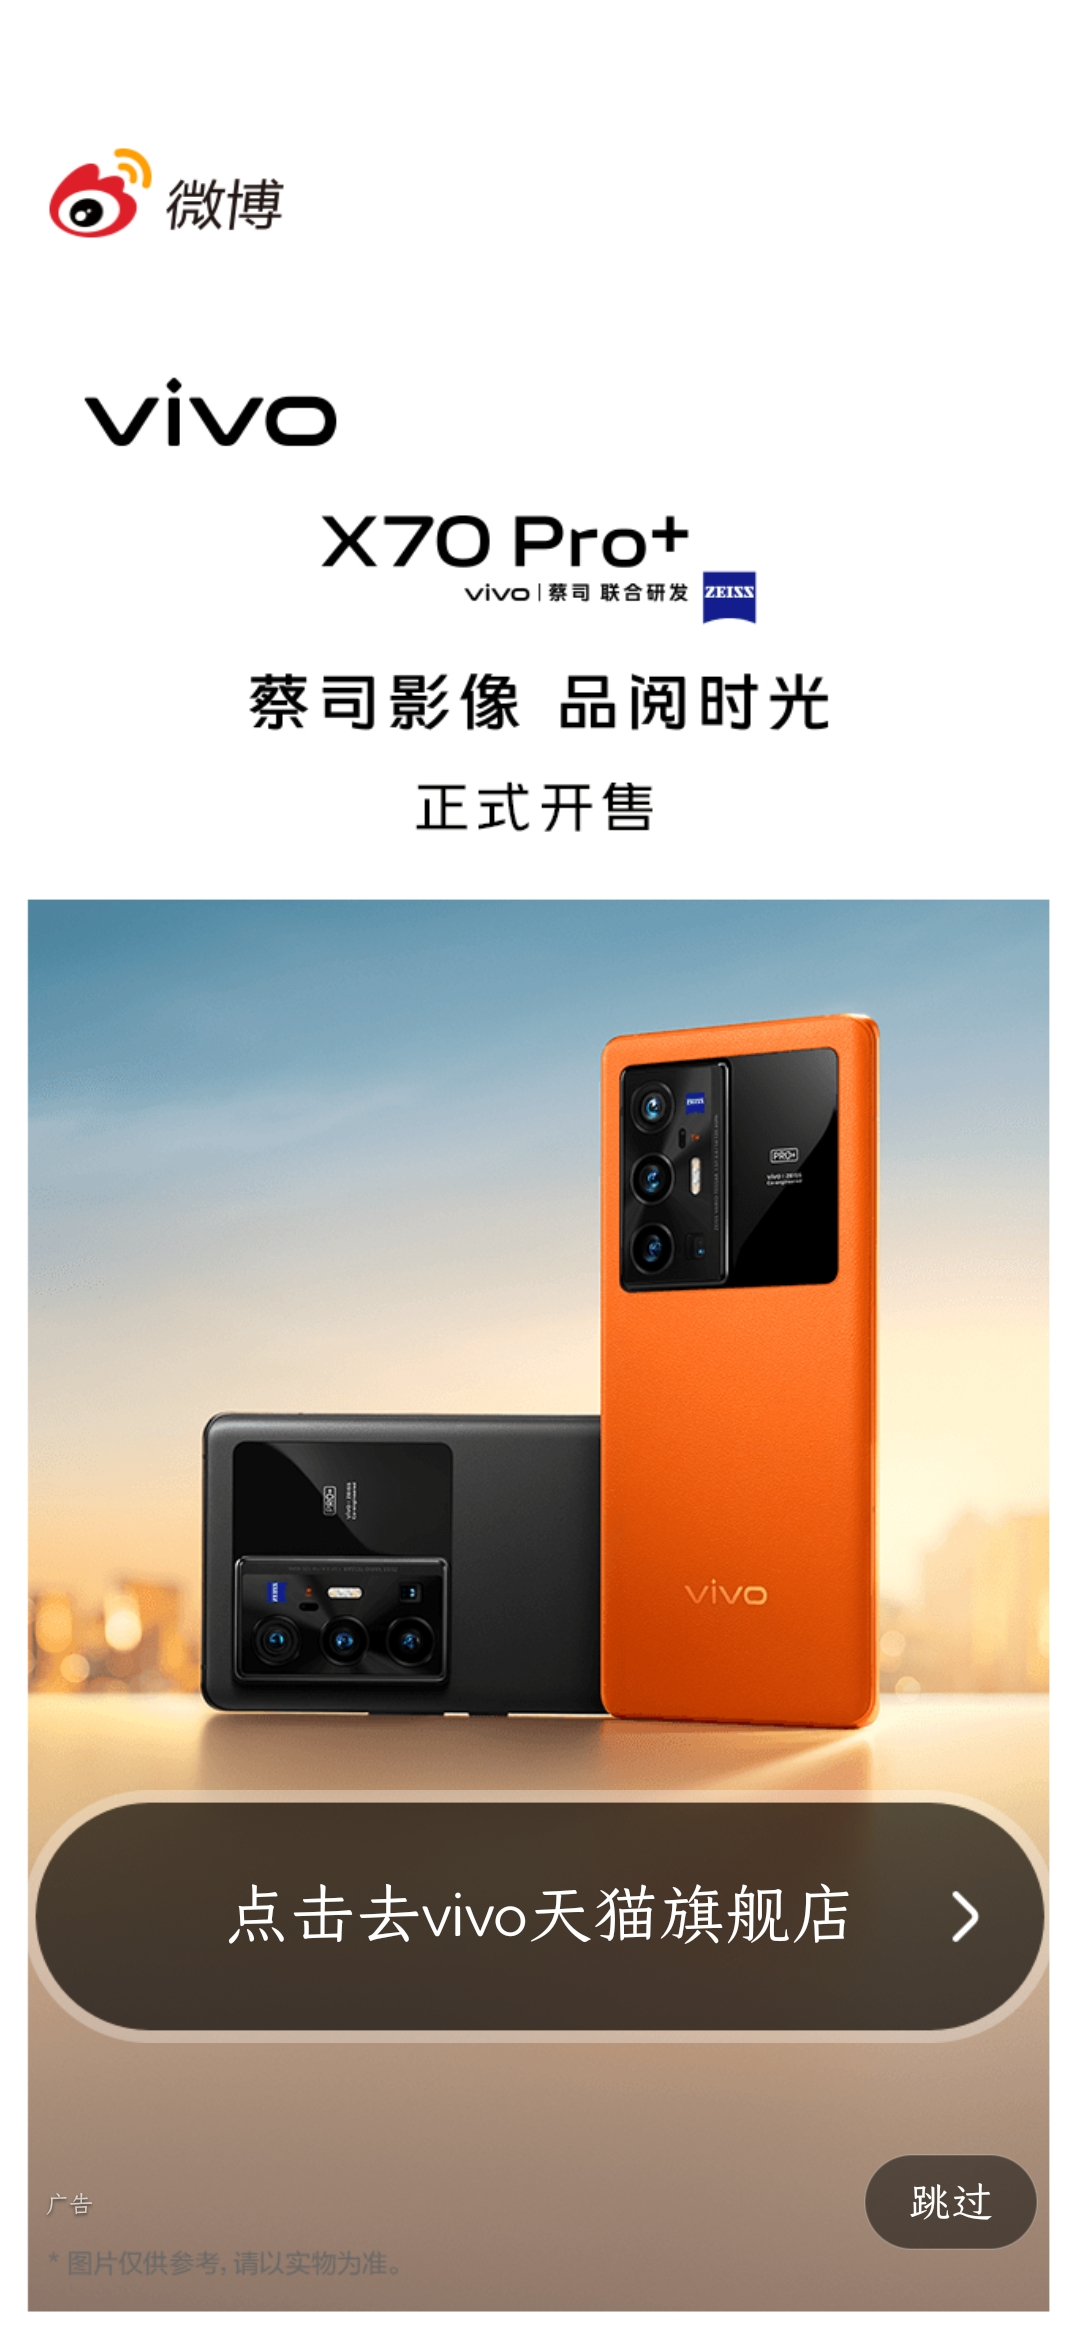skip: (897, 2162, 1011, 2242)
